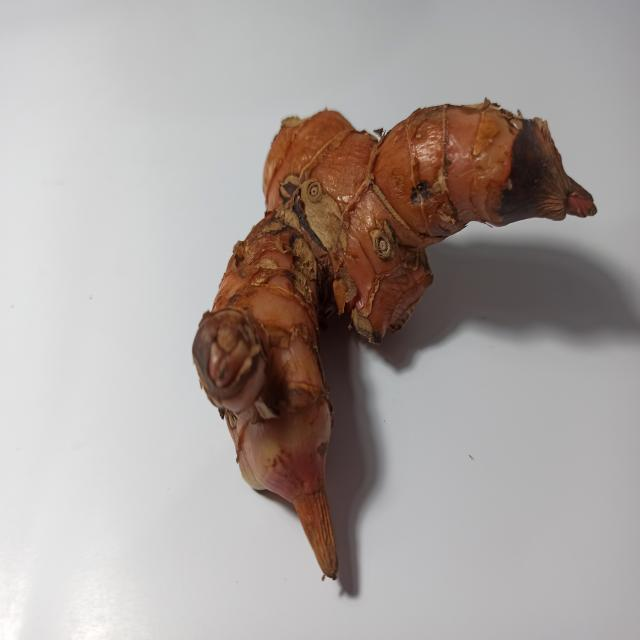ginger: (213, 112, 572, 532)
